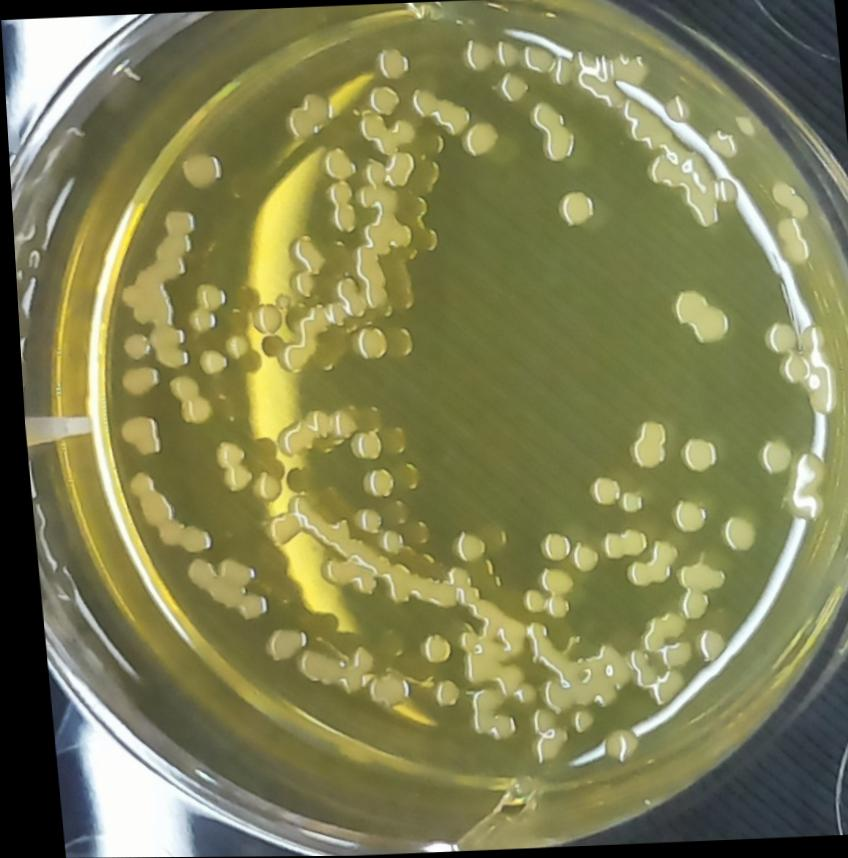vharveyi: (104, 203, 203, 329), (111, 463, 210, 556), (640, 146, 724, 235), (165, 555, 265, 626), (659, 286, 735, 350), (519, 98, 579, 168), (614, 411, 666, 473), (107, 412, 166, 458), (741, 432, 792, 482), (763, 217, 813, 268), (173, 145, 223, 195), (341, 321, 392, 369), (668, 430, 716, 479), (449, 118, 500, 163), (552, 188, 600, 232), (709, 514, 753, 557), (751, 319, 798, 358), (658, 498, 702, 539), (337, 427, 378, 465), (578, 471, 616, 511), (529, 528, 567, 566)
